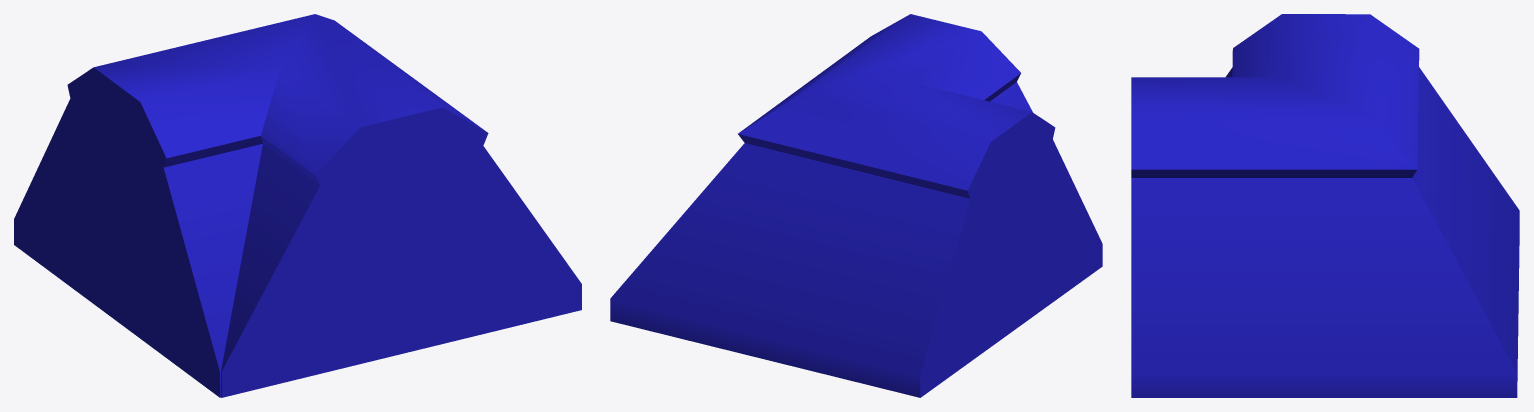
The model's file is roof_top_body_B.fbx.
3 renders of one model, left to right at view 1: azimuth 30°, elevation 25°; view 2: azimuth 150°, elevation 25°; view 3: azimuth 270°, elevation 25°, orthographic. The views are drawn at different scales.
Parts seen in each view (by area): view 1: roof_top_body_B; view 2: roof_top_body_B; view 3: roof_top_body_B.
Part boxes in pixels (x1,y1,x2,y2): roof_top_body_B: [14, 14, 581, 397]; roof_top_body_B: [610, 14, 1102, 397]; roof_top_body_B: [1131, 14, 1519, 397].
Size of the model in its own units: 401 by 251 by 401.
